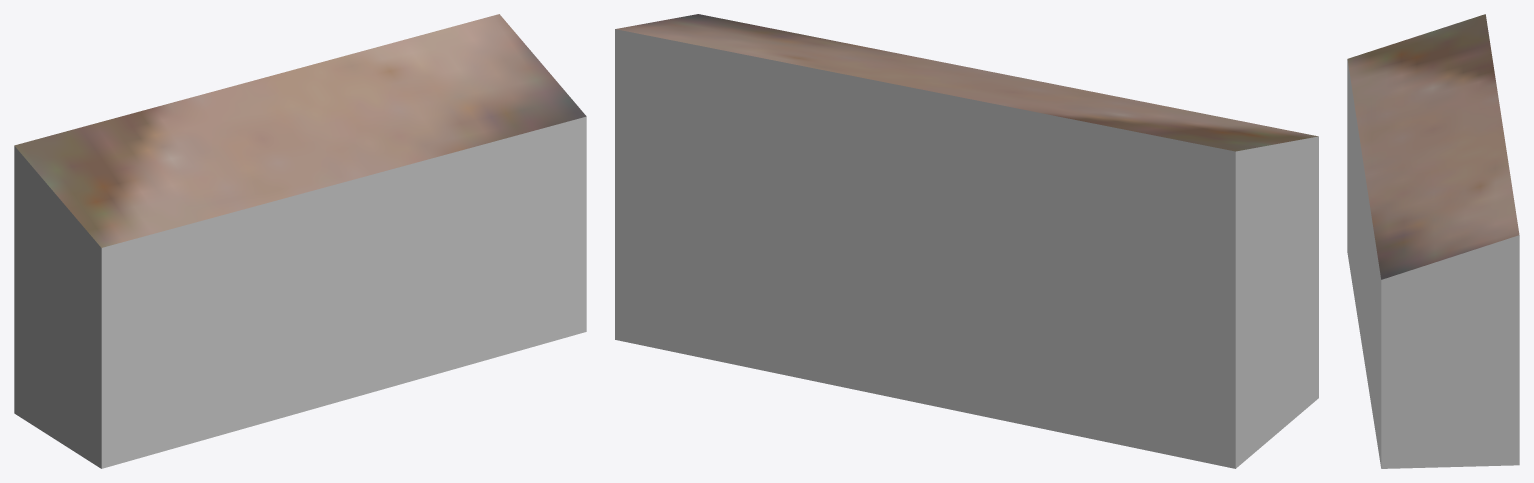
The model's file is DEBW_0010007THYG.gltf.
3 views of the same model, side by side, from view 1: azimuth 30°, elevation 25°; view 2: azimuth 150°, elevation 25°; view 3: azimuth 270°, elevation 25° (orthographic). The views are drawn at different scales.
Parts seen in each view (by area): view 1: Z_UP; view 2: Z_UP; view 3: Z_UP.
Part boxes in pixels (x1,y1,x2,y2): Z_UP: (14,14,586,468); Z_UP: (615,14,1318,468); Z_UP: (1347,14,1519,468).
Size of the model in its own units: 6.62 by 3.3 by 2.19.
2 materials, 1 textured.
